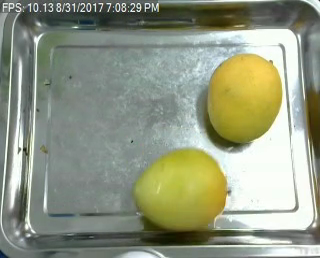Mango: (134, 149, 228, 228), (205, 53, 282, 143)
